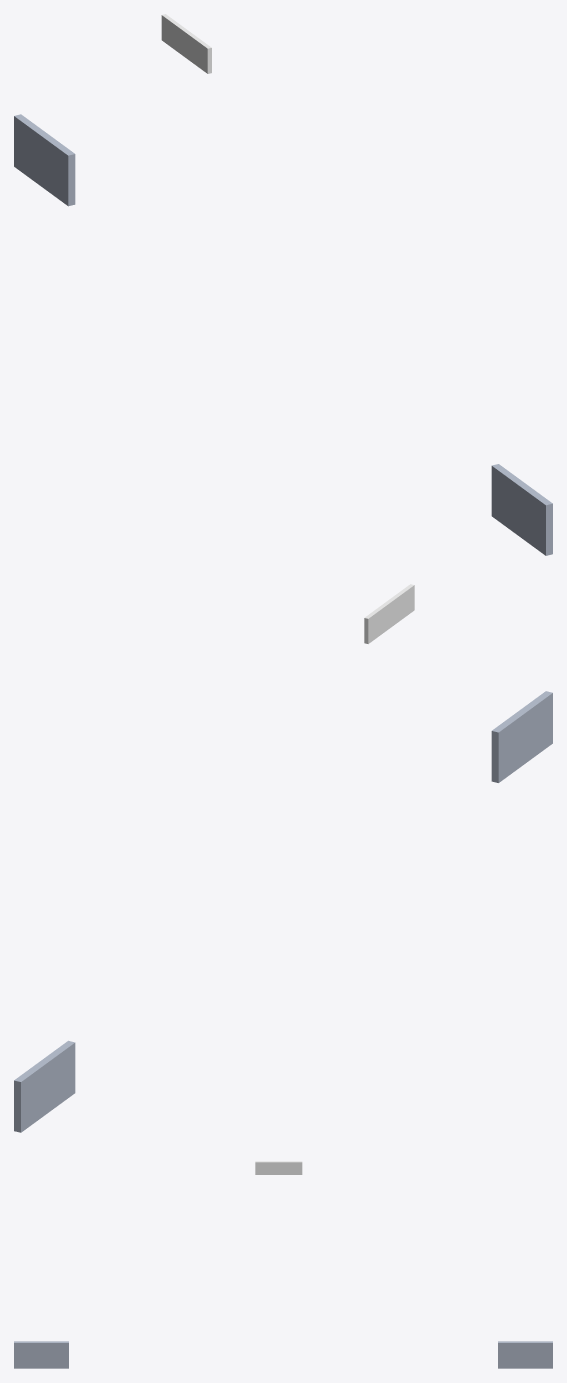
The model's file is Mirrors.glb.
3 renders of one model, top to bottom at view 1: azimuth 30°, elevation 25°; view 2: azimuth 150°, elevation 25°; view 3: azimuth 270°, elevation 25°, orthographic. The views are drawn at different scales.
Visible parts, largest first — view 1: Cube.135; view 2: Cube.135; view 3: Cube.135.
Boxes of the visible parts, box(x1,y1,x2,y2) form: Cube.135: box(14, 14, 552, 555); Cube.135: box(14, 584, 552, 1132); Cube.135: box(14, 1161, 552, 1368).
Bounding box in the file's own units: 0.0106 × 0.0338 × 0.0912.
1 material, 1 textured.
